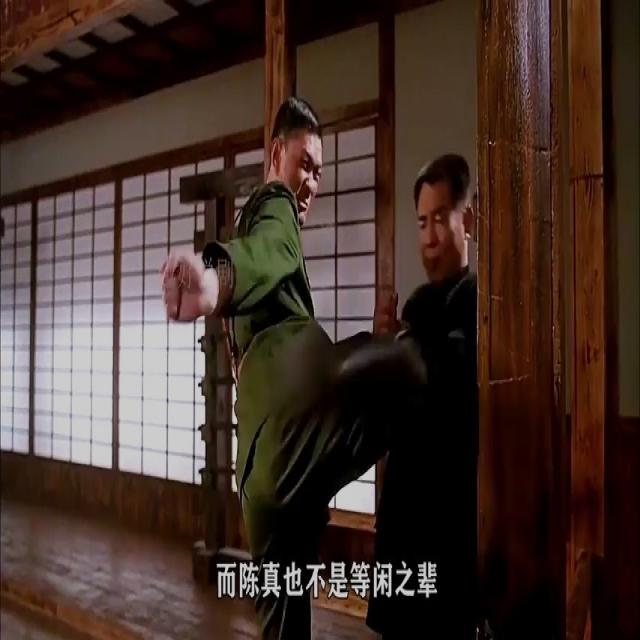fight: (154, 84, 479, 639)
